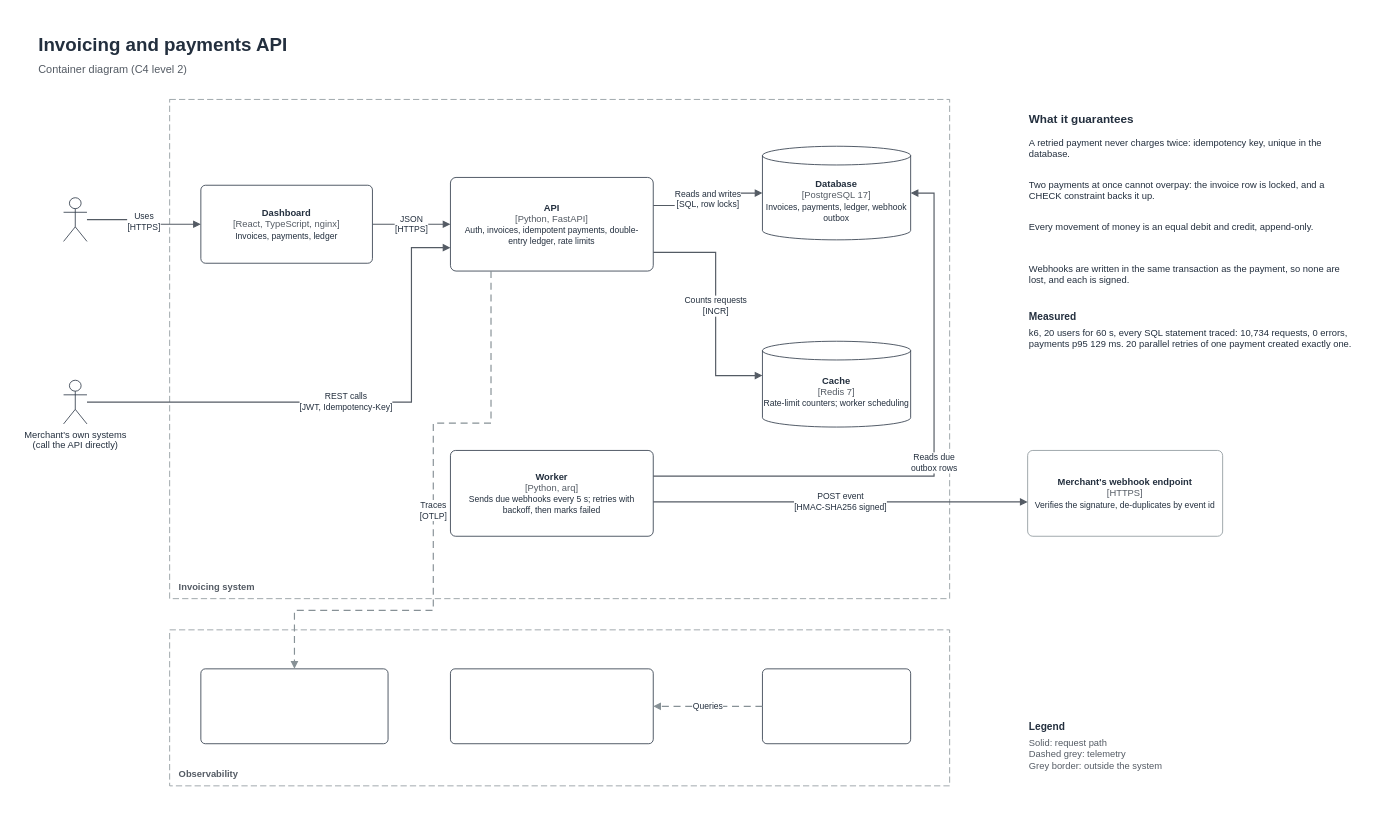
The diagram is 1399 pixels wide and 838 high, and some of its shapes have lost their labels. Here are the shapes that lost their labels. From the top down, the centre of each, then its label:
point 75,219: Merchant (signs in to the dashboard)
point 294,706: Tracing [Jaeger, OpenTelemetry] Every request and SQL statement
point 551,706: Metrics [Prometheus] Scrapes the API and worker every 5 s
point 836,706: Dashboards [Grafana] Provisioned from code
